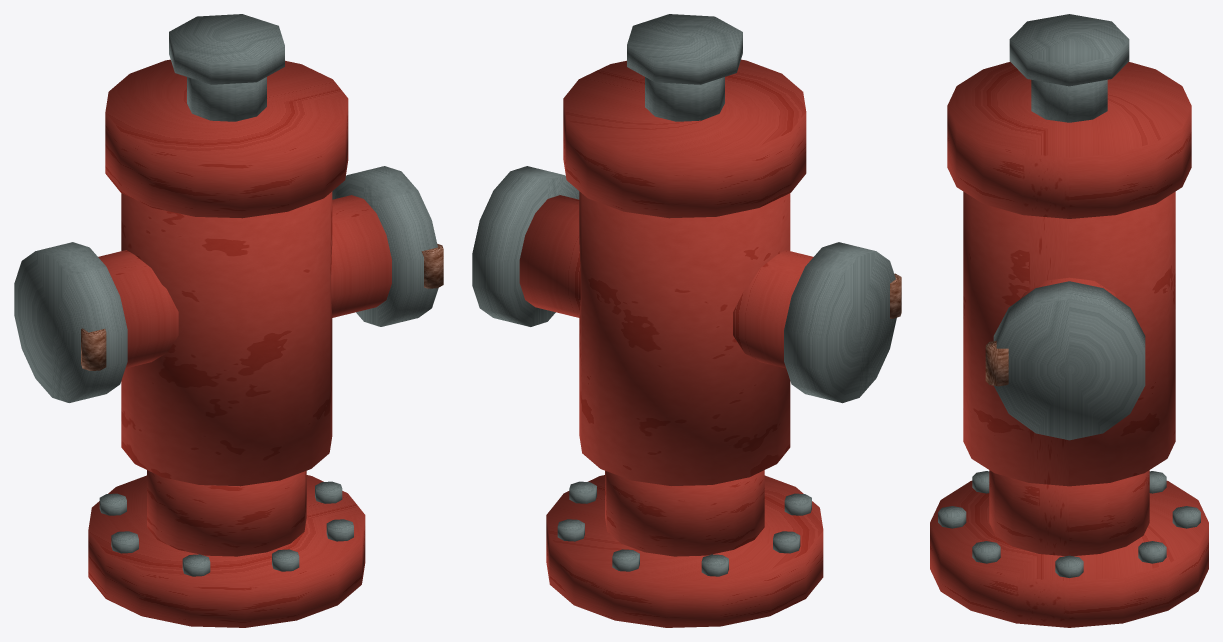
Rendered from PZ_Alley_FireHydrant_0p92M.glb.
3 views of the same model, side by side, from view 1: azimuth 30°, elevation 25°; view 2: azimuth 150°, elevation 25°; view 3: azimuth 270°, elevation 25° (orthographic).
Visible parts, largest first — view 1: Hydrant_CentralBarrel, Hydrant_DomeRing, Hydrant_BaseFlange, Hydrant_L_HoseCap, Hydrant_LowerNeck, Hydrant_R_HoseCap, Hydrant_TopCap, Hydrant_R_Outlet, Hydrant_L_Outlet, Hydrant_TopValve, Hydrant_L_HoseCapLug, Hydrant_R_HoseCapLug; view 2: Hydrant_CentralBarrel, Hydrant_DomeRing, Hydrant_BaseFlange, Hydrant_L_HoseCap, Hydrant_LowerNeck, Hydrant_R_HoseCap, Hydrant_TopCap, Hydrant_R_Outlet, Hydrant_L_Outlet, Hydrant_TopValve; view 3: Hydrant_CentralBarrel, Hydrant_DomeRing, Hydrant_BaseFlange, Hydrant_R_HoseCap, Hydrant_LowerNeck, Hydrant_TopCap, Hydrant_TopValve, Hydrant_R_HoseCapLug, Hydrant_BaseAnchor_0, Hydrant_BaseAnchor_1, Hydrant_BaseAnchor_2, Hydrant_BaseAnchor_6 (+2 smaller).
Part boxes in pixels (left/top/right/bottom): Hydrant_CentralBarrel: left=121, top=191, right=332, bottom=486; Hydrant_DomeRing: left=105, top=59, right=348, bottom=218; Hydrant_BaseFlange: left=88, top=475, right=365, bottom=627; Hydrant_L_HoseCap: left=14, top=242, right=127, bottom=402; Hydrant_LowerNeck: left=147, top=470, right=306, bottom=556; Hydrant_R_HoseCap: left=332, top=166, right=438, bottom=326; Hydrant_TopCap: left=169, top=14, right=284, bottom=84; Hydrant_R_Outlet: left=331, top=195, right=391, bottom=317; Hydrant_L_Outlet: left=98, top=250, right=178, bottom=368; Hydrant_TopValve: left=187, top=77, right=266, bottom=121; Hydrant_L_HoseCapLug: left=81, top=328, right=106, bottom=370; Hydrant_R_HoseCapLug: left=421, top=244, right=443, bottom=288; Hydrant_CentralBarrel: left=579, top=191, right=790, bottom=485; Hydrant_DomeRing: left=563, top=59, right=806, bottom=218; Hydrant_BaseFlange: left=546, top=475, right=823, bottom=627; Hydrant_L_HoseCap: left=784, top=242, right=896, bottom=403; Hydrant_LowerNeck: left=605, top=470, right=764, bottom=556; Hydrant_R_HoseCap: left=472, top=166, right=579, bottom=326; Hydrant_TopCap: left=627, top=14, right=742, bottom=84; Hydrant_R_Outlet: left=519, top=195, right=580, bottom=317; Hydrant_L_Outlet: left=733, top=250, right=813, bottom=368; Hydrant_TopValve: left=645, top=77, right=724, bottom=121; Hydrant_CentralBarrel: left=963, top=191, right=1175, bottom=486; Hydrant_DomeRing: left=947, top=62, right=1191, bottom=218; Hydrant_BaseFlange: left=930, top=480, right=1208, bottom=627; Hydrant_R_HoseCap: left=993, top=281, right=1145, bottom=440; Hydrant_LowerNeck: left=989, top=470, right=1149, bottom=556; Hydrant_TopCap: left=1009, top=14, right=1129, bottom=86; Hydrant_TopValve: left=1031, top=79, right=1107, bottom=122; Hydrant_R_HoseCapLug: left=985, top=340, right=1008, bottom=386; Hydrant_BaseAnchor_0: left=1055, top=555, right=1083, bottom=577; Hydrant_BaseAnchor_1: left=1138, top=541, right=1166, bottom=563; Hydrant_BaseAnchor_2: left=1172, top=506, right=1200, bottom=528; Hydrant_BaseAnchor_6: left=938, top=506, right=966, bottom=528.
Bounding box in the file's own units: 0.672 × 0.947 × 0.452.
Materials: 3 (3 with a texture image).
